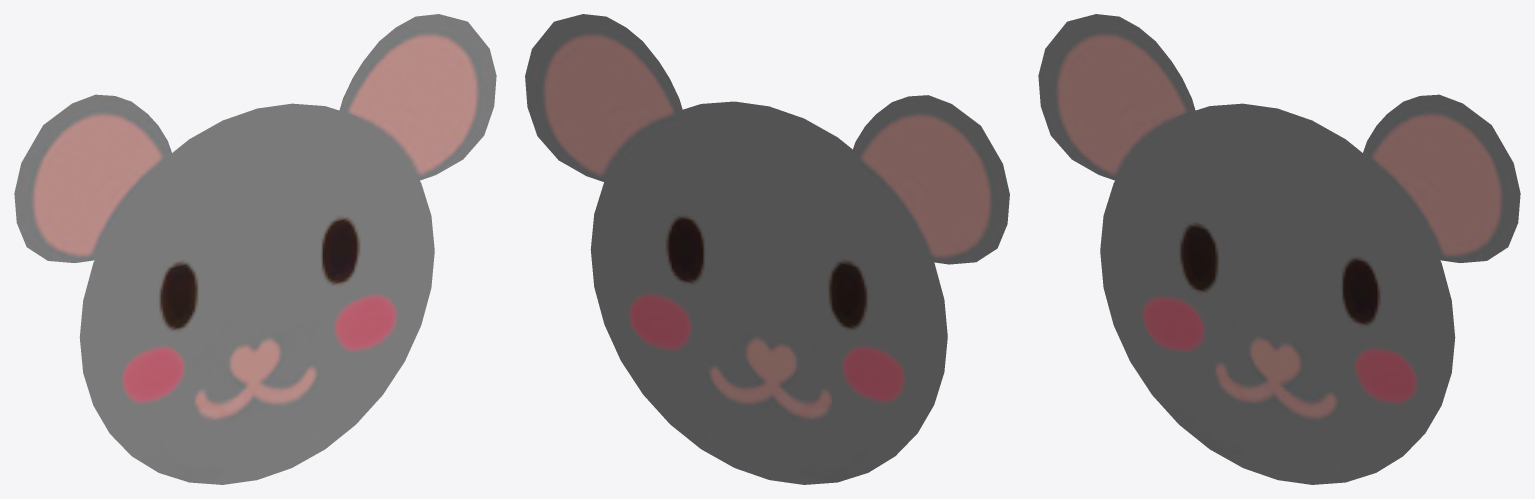
Rendered from Rat.fbx.
3 views of the same model, side by side, from view 1: azimuth 30°, elevation 25°; view 2: azimuth 150°, elevation 25°; view 3: azimuth 330°, elevation 25° (orthographic).
Visible parts, largest first — view 1: Rat; view 2: Rat; view 3: Rat.
Boxes of the visible parts, x1,y1,x2,y2 form: Rat: (14, 14, 496, 484); Rat: (525, 14, 1009, 484); Rat: (1038, 14, 1520, 484).
Size of the model in its own units: 272 by 228 by 1.75.
